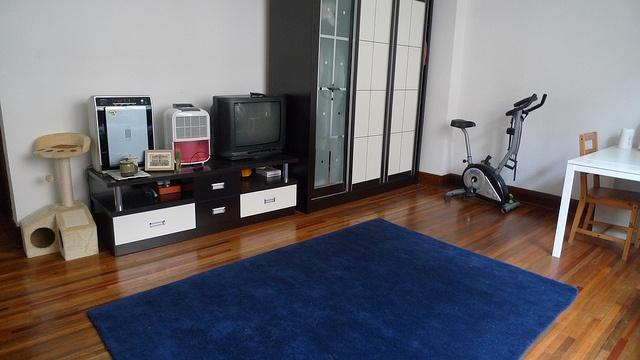Kursi: (566, 129, 639, 261)
Lemari: (300, 0, 434, 214)
Meja: (560, 142, 639, 183)
